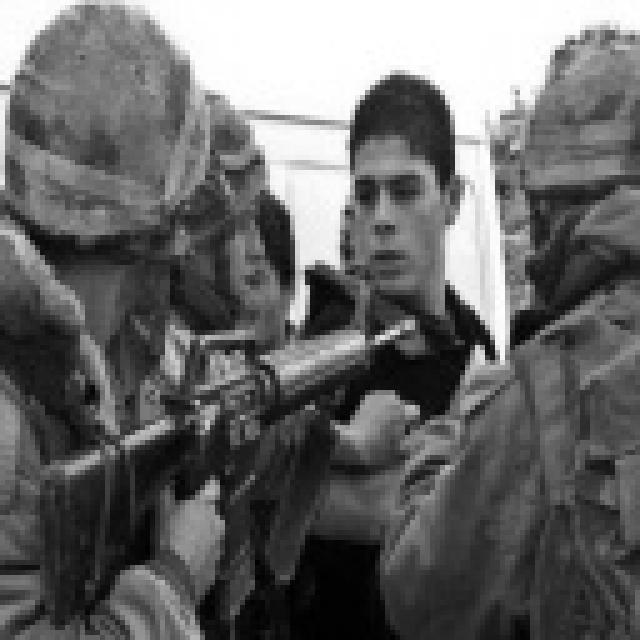Rifle: (0, 235, 469, 640)
